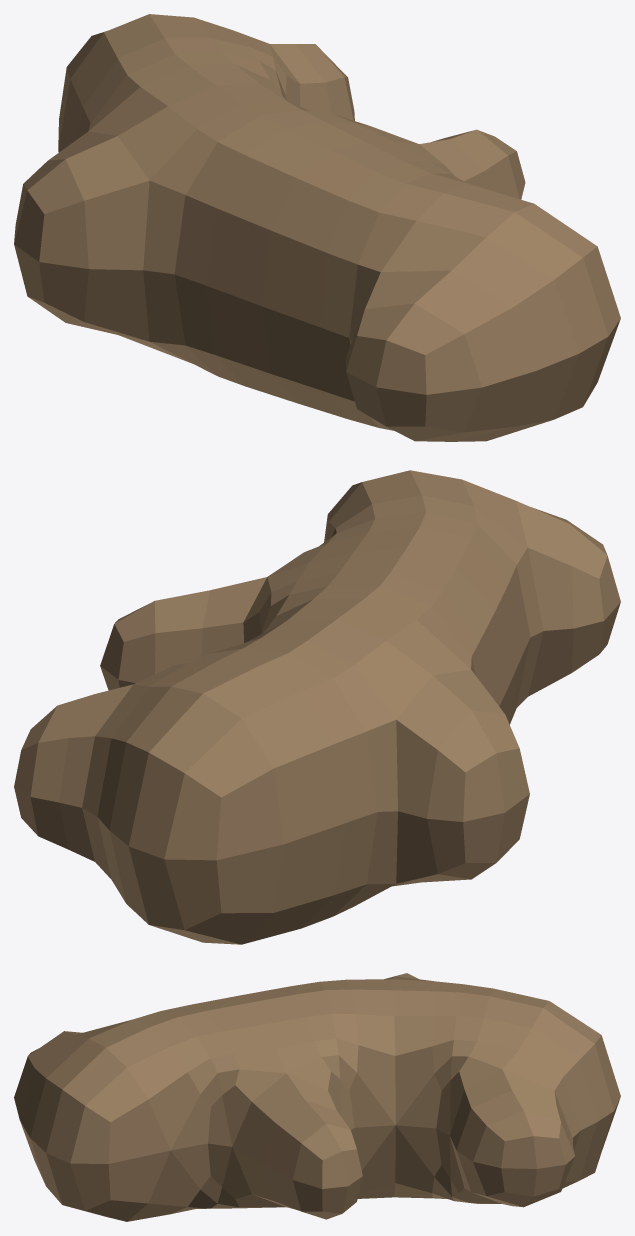
File: Ginger.fbx
The picture shows the model from 3 angles, top to bottom: view 1: azimuth 30°, elevation 25°; view 2: azimuth 150°, elevation 25°; view 3: azimuth 270°, elevation 25°; orthographic projection. The views are drawn at different scales.
Visible parts, largest first — view 1: Ginger; view 2: Ginger; view 3: Ginger.
Boxes of the visible parts, box(x1,y1,x2,y2) form: Ginger: box(14, 14, 620, 441); Ginger: box(14, 470, 620, 944); Ginger: box(14, 973, 620, 1221).
Size of the model in its own units: 30.2 by 16.65 by 45.96.
